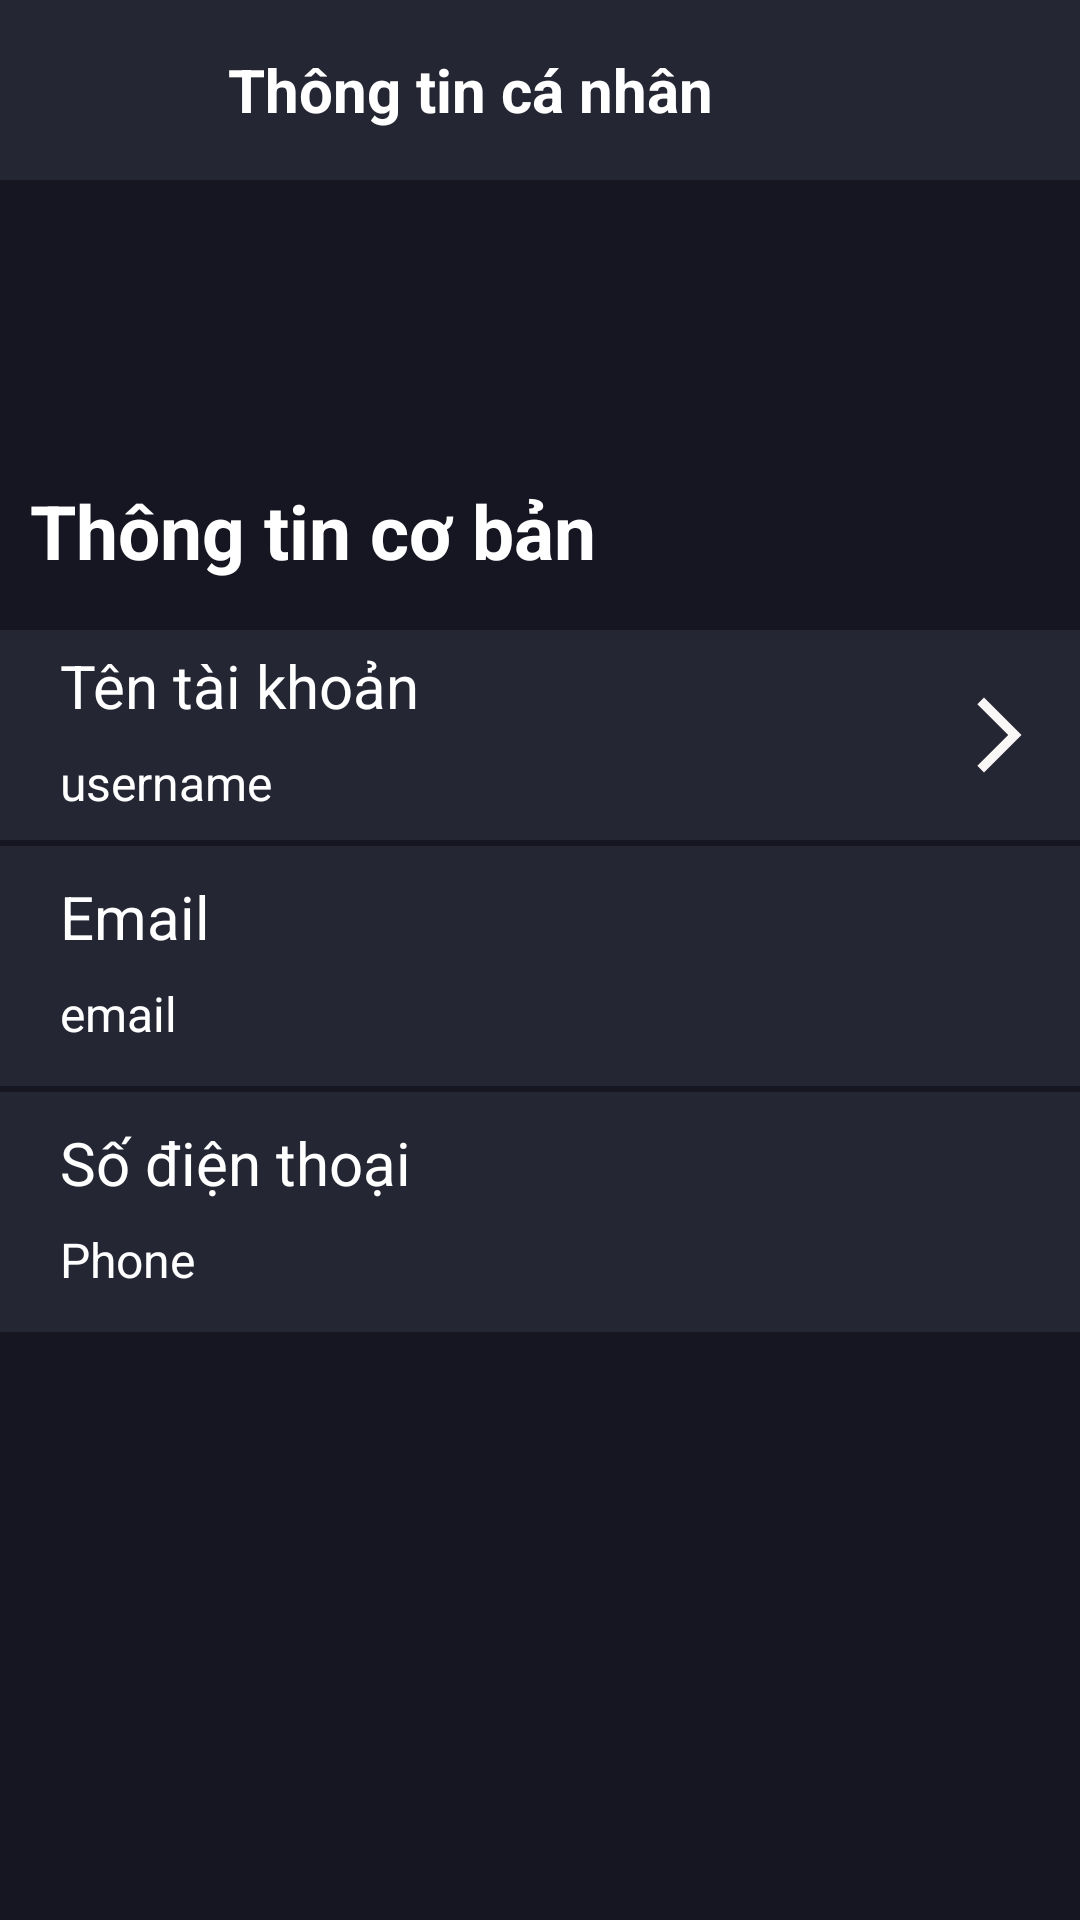

Icon bounding boxes for this 1080x1920 phone screenshot, format (left=x1, top=y1, right=x2, bottom=y2):
arrow forward: (left=977, top=697, right=1022, bottom=773)
